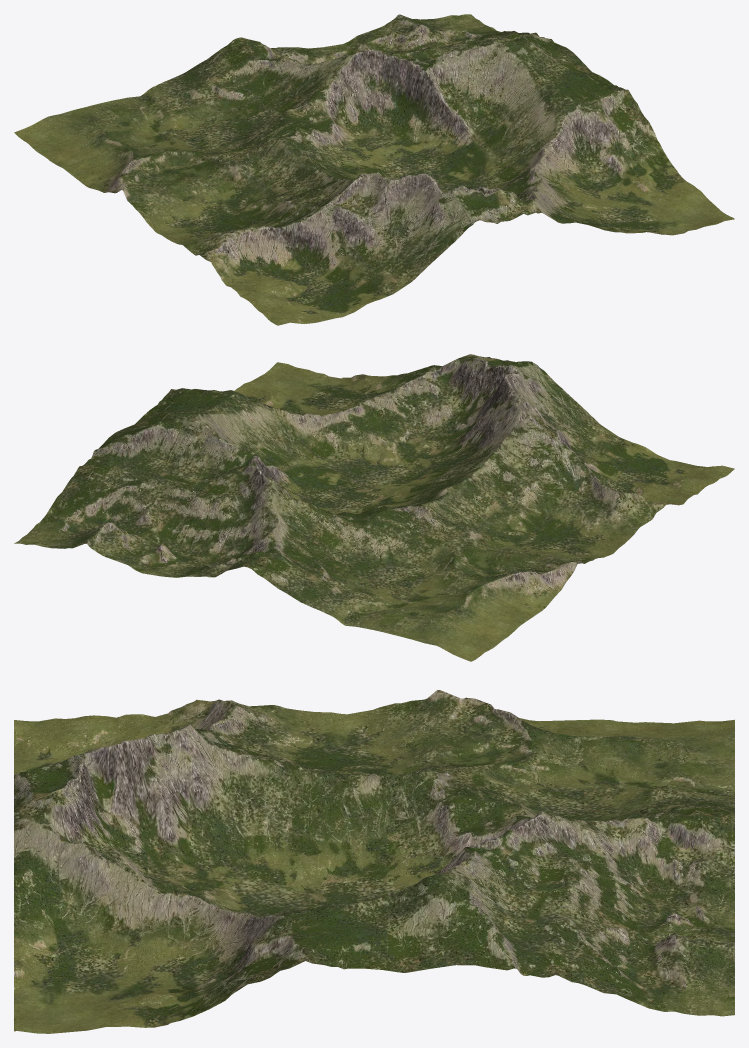
The model's file is Paisaje.glb.
3 renders of one model, top to bottom at view 1: azimuth 30°, elevation 25°; view 2: azimuth 150°, elevation 25°; view 3: azimuth 270°, elevation 25°, orthographic. The views are drawn at different scales.
Parts seen in each view (by area): view 1: Object_2; view 2: Object_2; view 3: Object_2.
Boxes of the visible parts, bbox=[...] form: Object_2: bbox=[14, 14, 734, 325]; Object_2: bbox=[14, 354, 734, 661]; Object_2: bbox=[14, 690, 734, 1033].
Size of the model in its own units: 1000 by 177 by 1000.
1 material, 1 textured.
